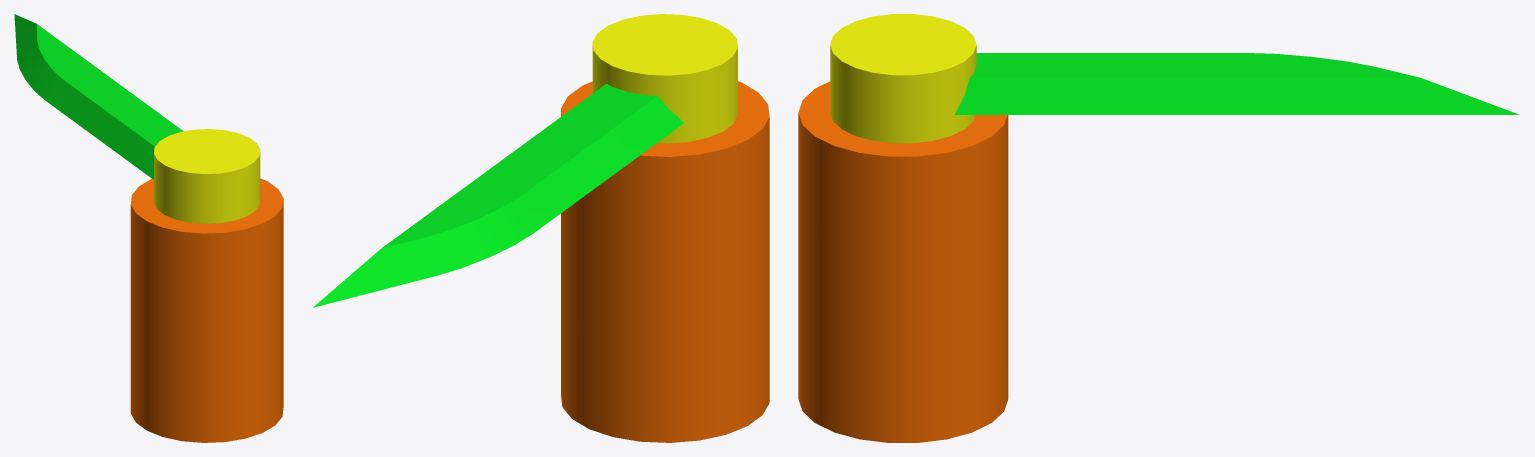
The model's file is Color Trap one sided.fbx.
3 renders of one model, left to right at view 1: azimuth 30°, elevation 25°; view 2: azimuth 150°, elevation 25°; view 3: azimuth 270°, elevation 25°, orthographic. The views are drawn at different scales.
Visible parts, largest first — view 1: Cylinder.001, Cube, Cylinder; view 2: Cylinder.001, Cube, Cylinder; view 3: Cylinder.001, Cube, Cylinder.
Boxes of the visible parts, bbox=[...] form: Cylinder.001: bbox=[130, 178, 283, 442]; Cube: bbox=[14, 14, 183, 179]; Cylinder: bbox=[154, 129, 260, 223]; Cylinder.001: bbox=[561, 81, 769, 442]; Cube: bbox=[313, 83, 684, 307]; Cylinder: bbox=[592, 14, 737, 143]; Cylinder.001: bbox=[798, 81, 1008, 442]; Cube: bbox=[954, 53, 1519, 114]; Cylinder: bbox=[830, 14, 976, 143].
Size of the model in its own units: 66.85 by 36.2 by 19.24.
